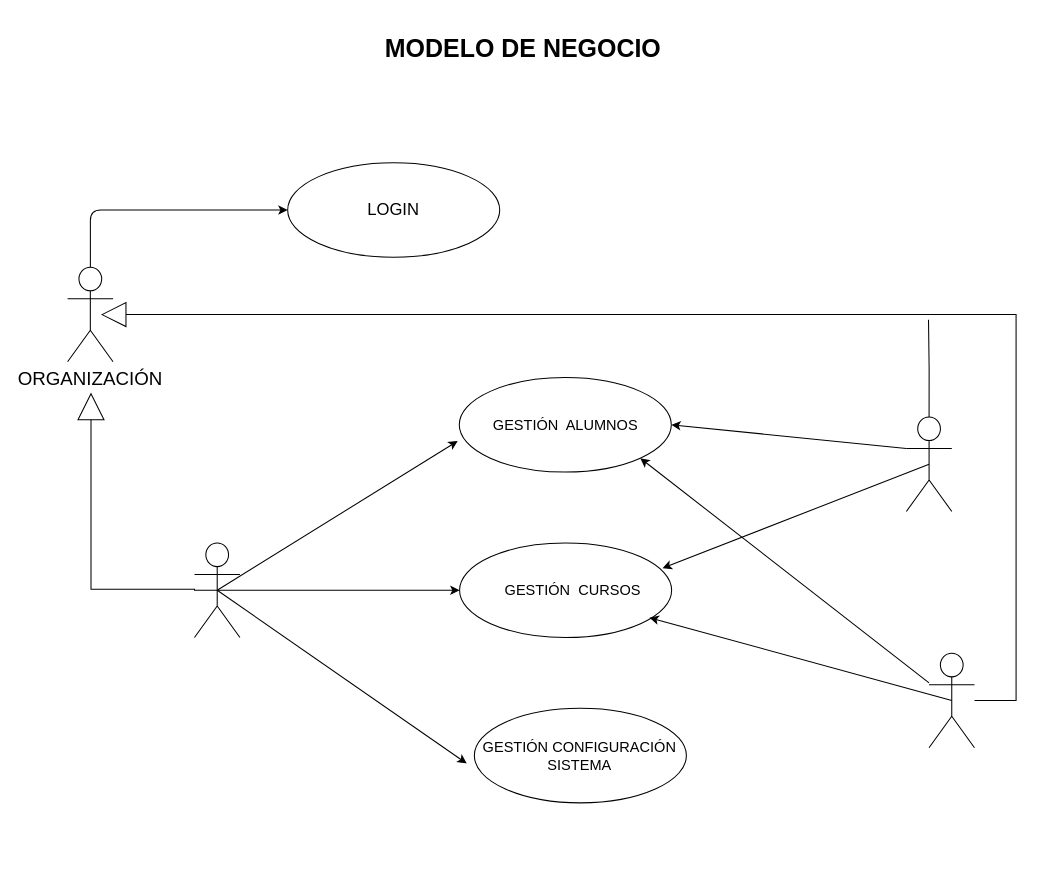
This 1060x883 diagram has some shape labels left out. Here are the shapes that lost their labels. From the top down, the centre of each, then its label:
At (x=928, y=463): "ALUMNO".
At (x=216, y=590): "ACADEMIA".
At (x=951, y=700): "DEPARTAMENTO".
